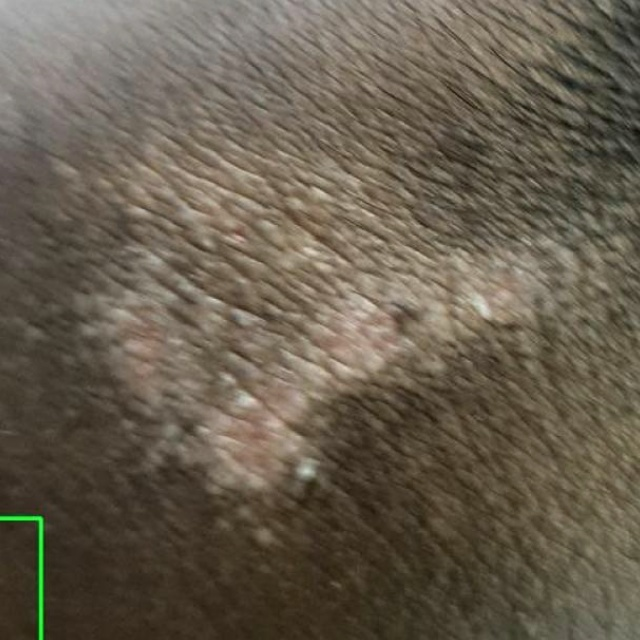Contact Dermatitis: (0, 518, 40, 639)
